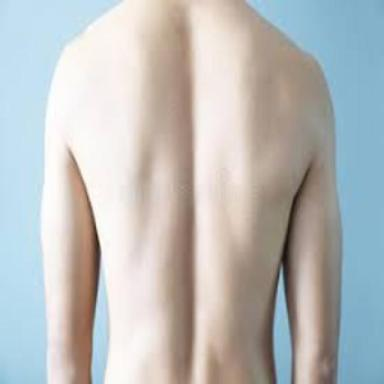normal skin: (42, 0, 341, 384)
